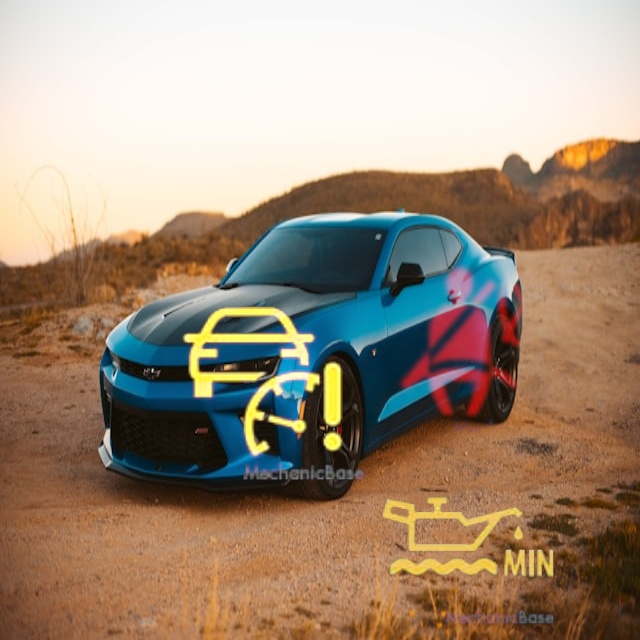symbol: (368, 230, 585, 447), (157, 277, 368, 488), (371, 443, 561, 633), (280, 36, 425, 181)
